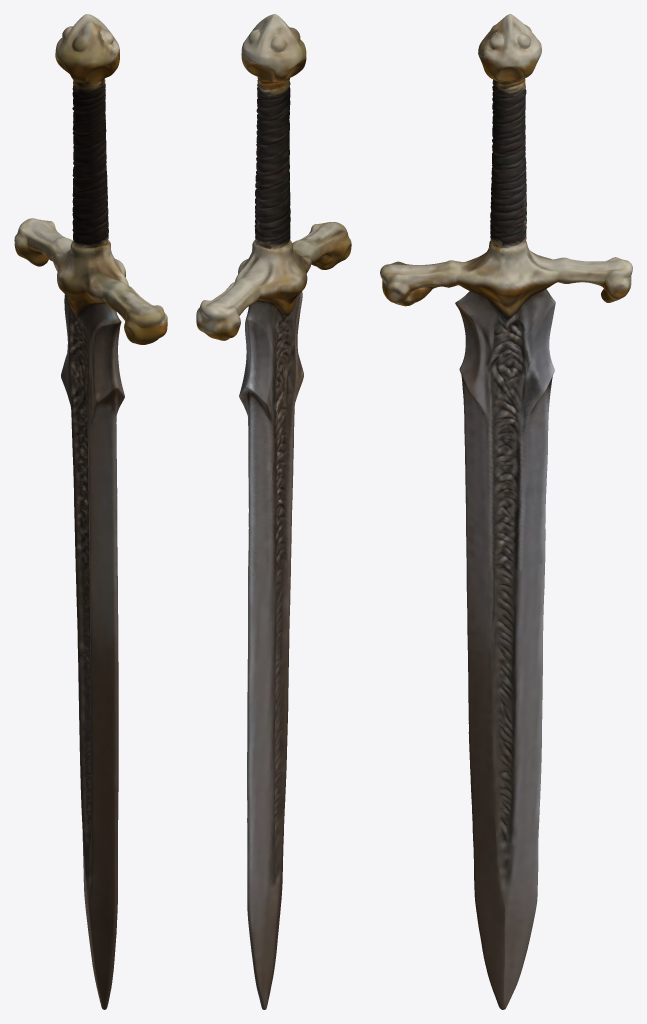
The model's file is paladin_sword.glb.
The picture shows the model from 3 angles, left to right: view 1: azimuth 30°, elevation 25°; view 2: azimuth 150°, elevation 25°; view 3: azimuth 270°, elevation 25°; orthographic projection.
Visible parts, largest first — view 1: paladin_sword; view 2: paladin_sword; view 3: paladin_sword.
Part boxes in pixels (x1,y1,x2,y2): paladin_sword: (14,14,167,1009); paladin_sword: (196,14,351,1009); paladin_sword: (380,14,632,1009).
Bounding box in the file's own units: 0.0395 × 0.6146 × 0.1424.
Materials: 1 (1 with a texture image).
